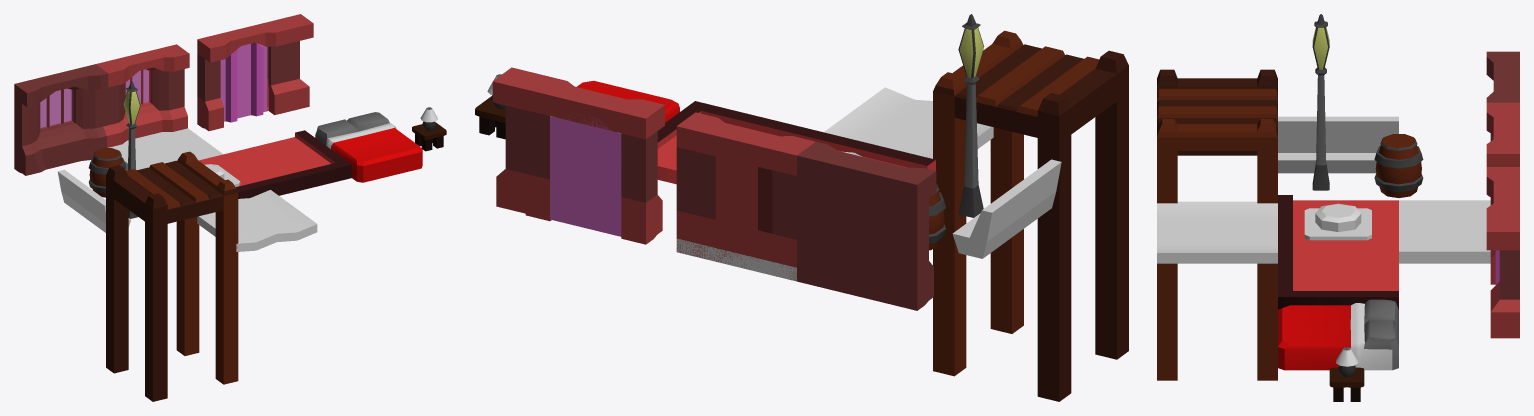
Rendered from ModulesHotel.fbx.
The picture shows the model from 3 angles, left to right: view 1: azimuth 30°, elevation 25°; view 2: azimuth 150°, elevation 25°; view 3: azimuth 270°, elevation 25°; orthographic projection. The views are drawn at different scales.
Parts seen in each view (by area): view 1: Puente, Ventana2, Ventana, Ventana003, Box003, VeredaEsquina, Calle, Box001, Vereda, Box002, Banco, VeredaBorde (+3 smaller); view 2: Puente, Ventana2, Ventana, Ventana003, Box001, Calle, Banco, Box002, Farol, VeredaEsquina, VeredaBorde, Vereda (+3 smaller); view 3: Puente, Box003, Calle, VeredaEsquina, Vereda, Banco, VeredaBorde, Box002, Barril, Ventana, Farol, Ventana003 (+4 smaller).
Part boxes in pixels (x1,y1,x2,y2): Puente: (106,151,238,401); Ventana2: (14,64,108,175); Ventana: (96,44,189,147); Ventana003: (197,19,291,131); Box003: (315,112,422,182); VeredaEsquina: (224,130,351,195); Calle: (197,190,317,251); Box001: (220,42,267,122); Vereda: (108,128,222,170); Box002: (279,14,313,111); Banco: (57,169,130,232); VeredaBorde: (198,154,270,198); Puente: (933,30,1128,401); Ventana2: (797,141,936,310); Ventana: (676,112,815,280); Ventana003: (525,75,664,244); Box001: (550,112,621,236); Calle: (824,87,993,158); Banco: (952,159,1061,258); Box002: (492,67,544,213); Farol: (958,14,984,217); VeredaEsquina: (657,101,814,184); VeredaBorde: (807,130,935,170); Vereda: (676,238,796,281); Puente: (1157,69,1277,380); Box003: (1278,299,1398,370); Calle: (1157,201,1277,263); VeredaEsquina: (1278,246,1398,309); Vereda: (1399,200,1490,263); Banco: (1278,116,1398,173); VeredaBorde: (1278,195,1398,251); Box002: (1486,218,1519,338); Barril: (1374,134,1423,197); Ventana: (1486,102,1519,204); Farol: (1312,14,1329,190); Ventana003: (1486,167,1519,299).
Size of the model in its own units: 313 by 217 by 210.
